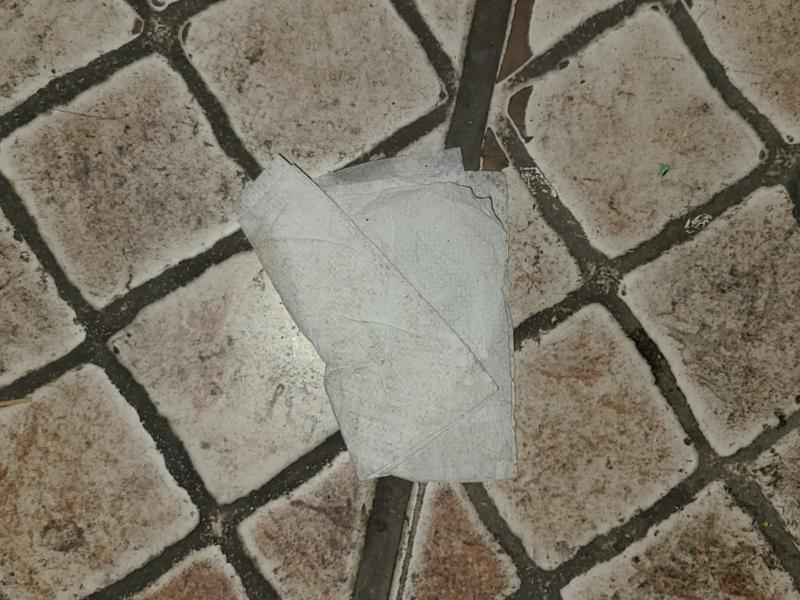papel: (237, 147, 517, 487)
